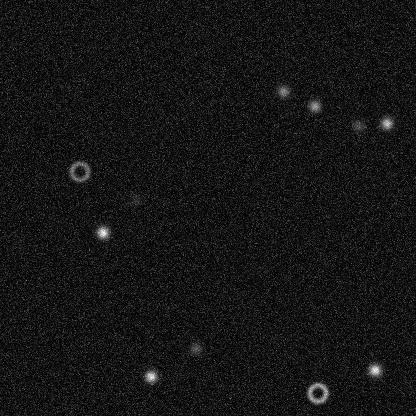Ring: (67, 159, 91, 183), (305, 380, 329, 404)
Spot: (142, 368, 158, 384), (187, 340, 203, 356), (350, 117, 366, 133), (366, 362, 382, 378), (94, 224, 110, 240), (127, 191, 143, 207), (306, 97, 322, 113), (378, 115, 394, 131), (275, 83, 291, 99)
